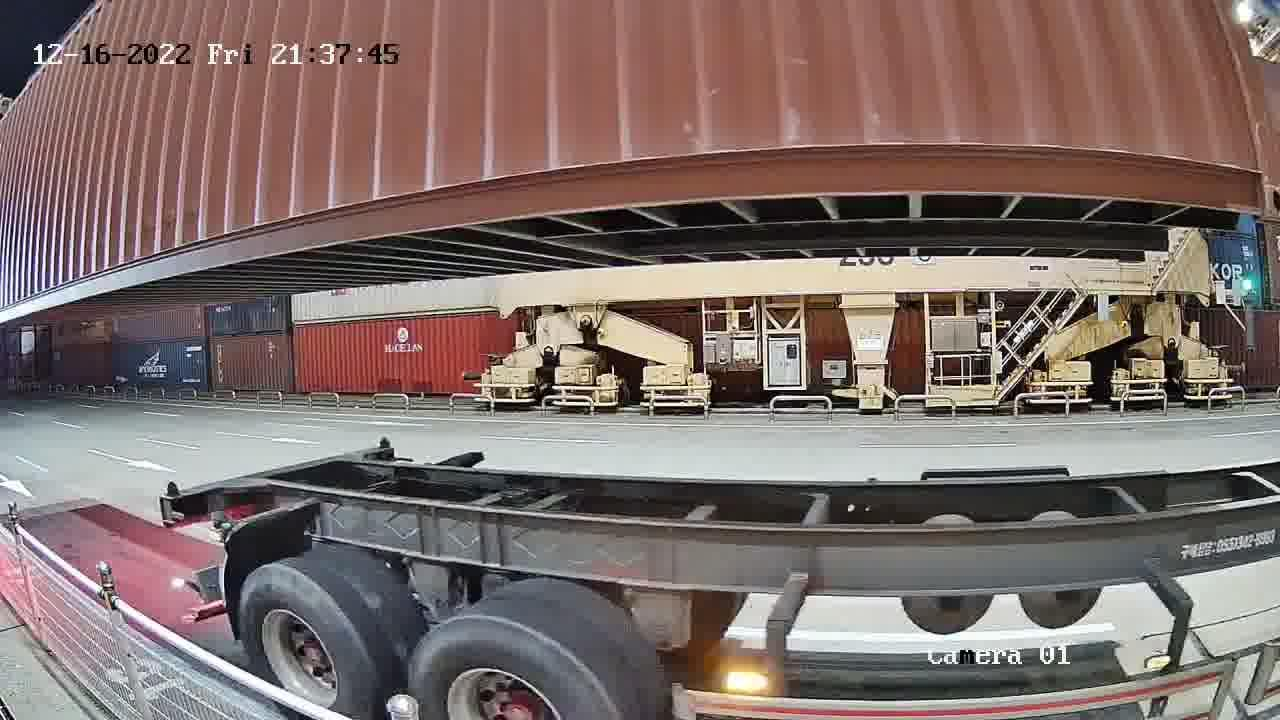Cone: (157, 481, 180, 527), (375, 435, 396, 459)
Hole_R: (1219, 133, 1279, 214)
Tire: (237, 563, 379, 719), (405, 617, 619, 718)
